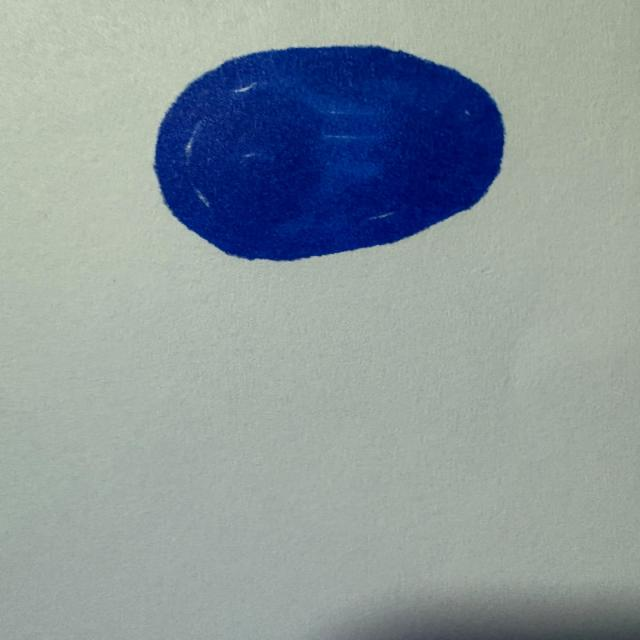Circle: (148, 40, 518, 268)
